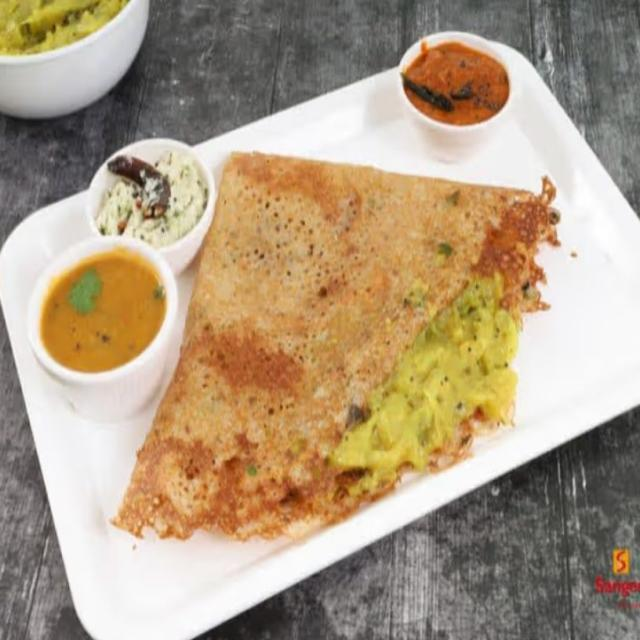DOSA: (119, 152, 566, 536)
RED CHUTNEY: (401, 41, 501, 127)
SAMBAR: (42, 249, 159, 375)
WHITE CHUTNEY: (102, 149, 204, 245)
